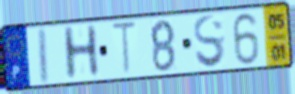6: (232, 11, 261, 68)
8: (149, 19, 178, 74)
H: (60, 23, 102, 83)
I: (38, 26, 51, 87)
S: (192, 13, 228, 71)
T: (110, 20, 139, 78)
